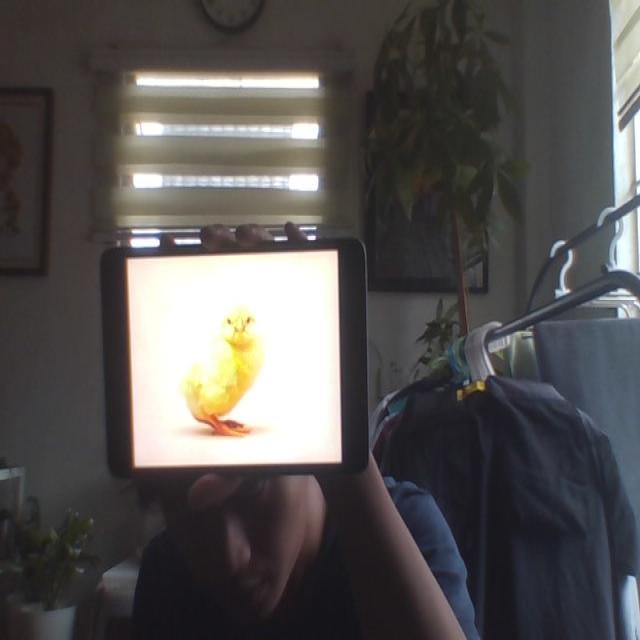Healthy: (180, 298, 264, 438)
